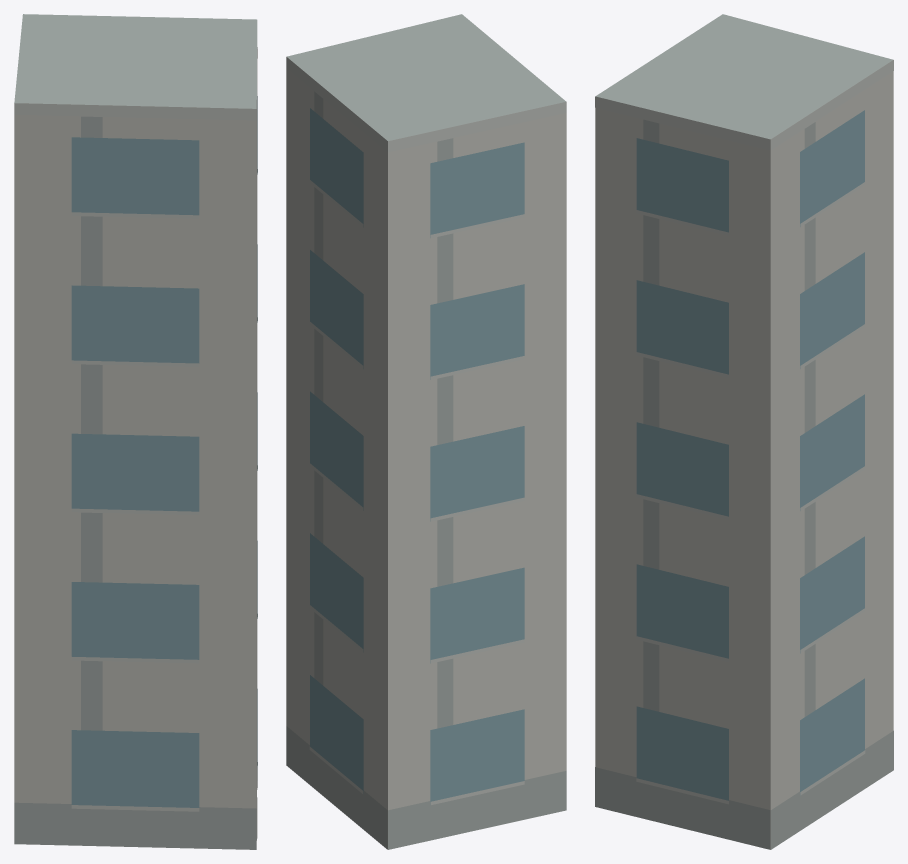
Rendered from survey-upis-32696258.glb.
The picture shows the model from 3 angles, left to right: view 1: azimuth 30°, elevation 25°; view 2: azimuth 150°, elevation 25°; view 3: azimuth 270°, elevation 25°; orthographic projection. The views are drawn at different scales.
Parts seen in each view (by area): view 1: survey-upis-32696258.tmp; view 2: survey-upis-32696258.tmp; view 3: survey-upis-32696258.tmp.
Part boxes in pixels (x1=…): survey-upis-32696258.tmp: x1=14, y1=14, x2=257, y2=849; survey-upis-32696258.tmp: x1=286, y1=14, x2=566, y2=849; survey-upis-32696258.tmp: x1=595, y1=14, x2=893, y2=849.
Bounding box in the file's own units: 5.78 × 15.25 × 5.82.
